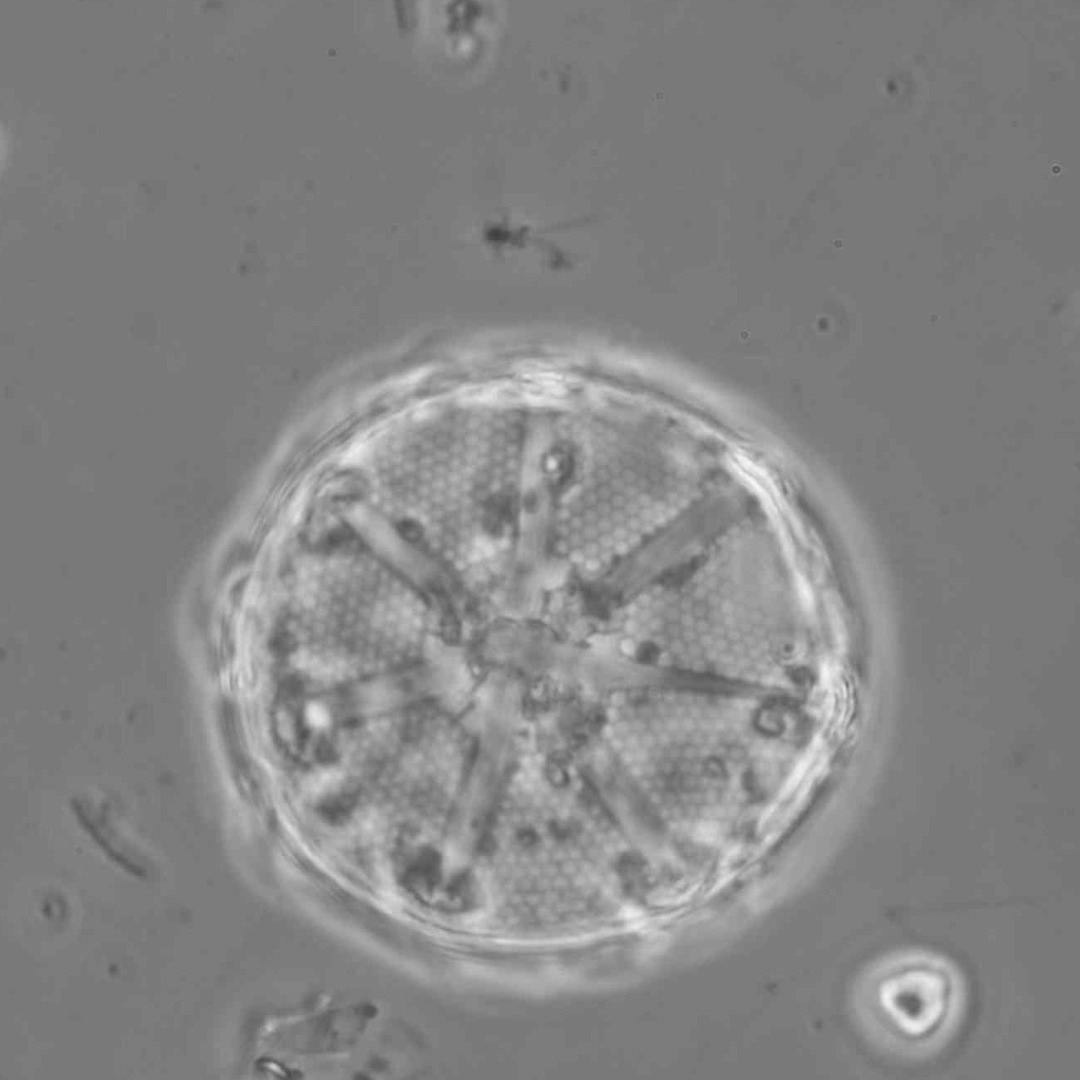asteromphalus_hyalinus: (243, 376, 827, 941)
